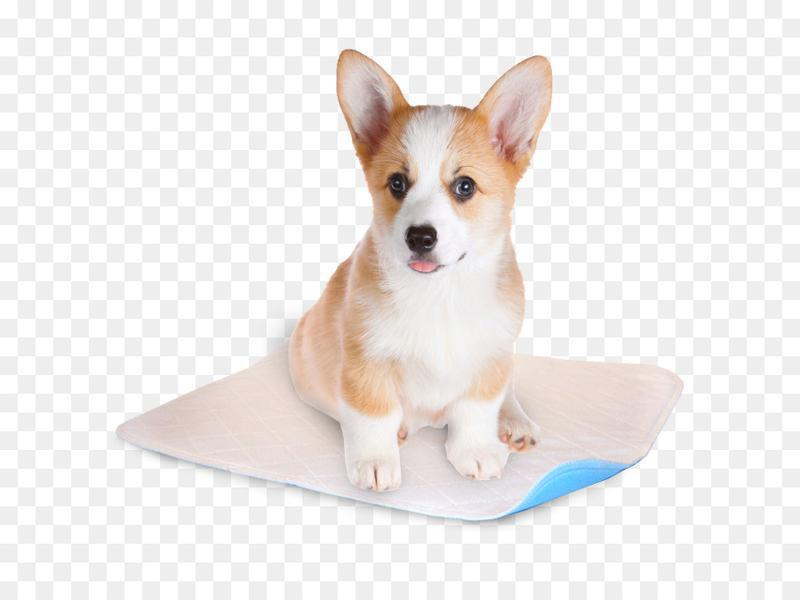corgi: (336, 49, 554, 278)
